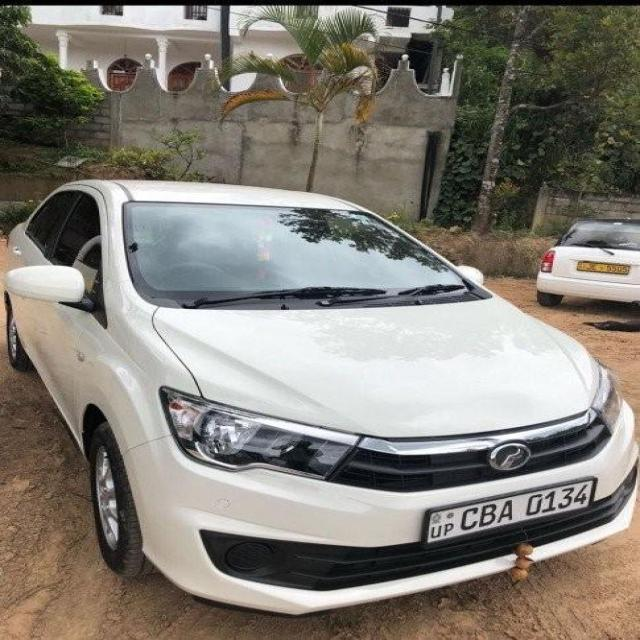license-plate: (421, 480, 600, 541)
